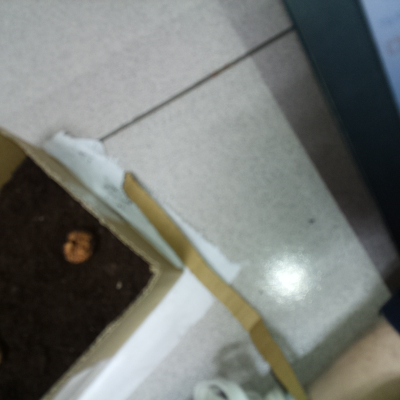eggs: (58, 224, 99, 266)
